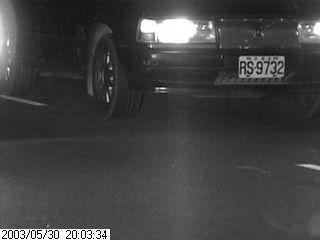plate: (238, 52, 286, 81)
